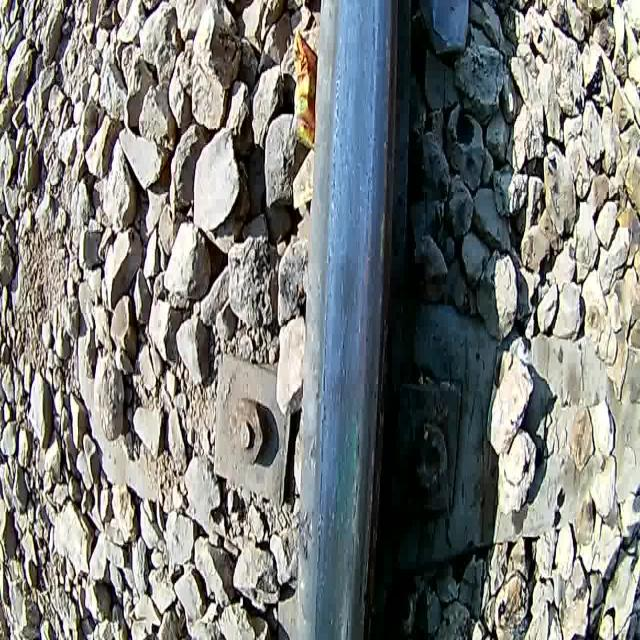Shellings: (321, 28, 346, 329), (312, 325, 331, 640), (363, 0, 380, 254), (358, 499, 374, 640), (349, 419, 363, 576)
Squats: (330, 244, 364, 326)
